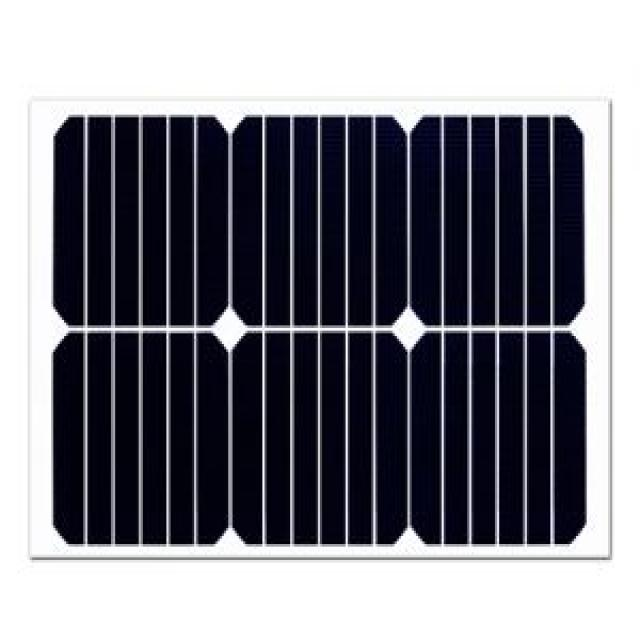clean-solar-panel: (144, 117, 166, 325)
